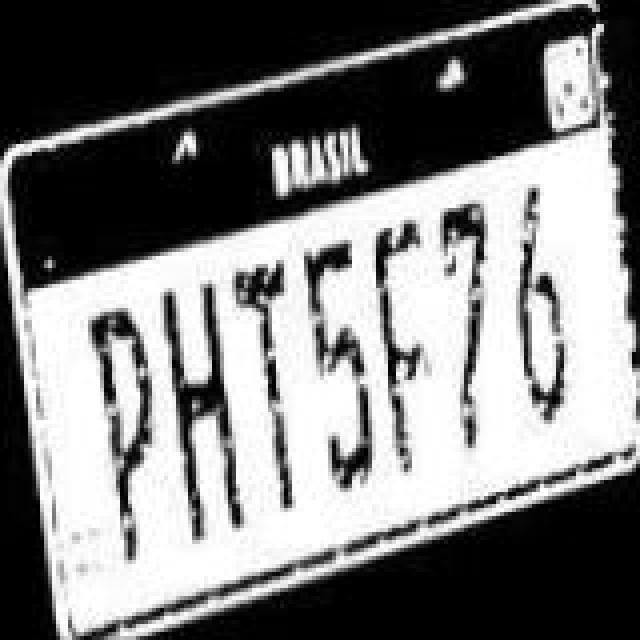5: (298, 214, 378, 502)
6: (508, 154, 588, 430)
7: (438, 168, 514, 448)
F: (372, 194, 436, 470)
H: (150, 260, 238, 544)
P: (78, 268, 170, 568)
T: (228, 240, 304, 512)
